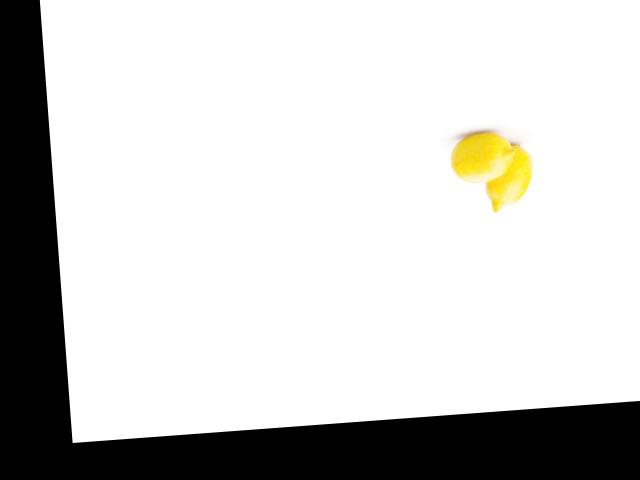lemon: (445, 123, 517, 191)
